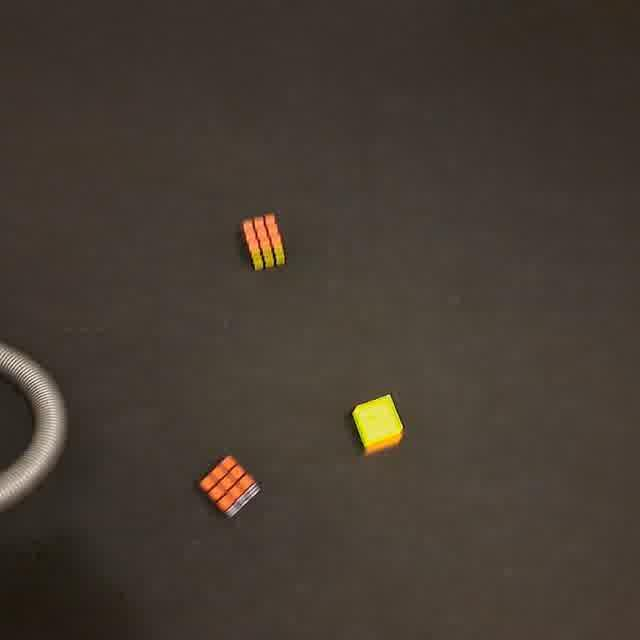rubix_cube: (195, 452, 265, 520), (349, 392, 407, 457), (239, 209, 290, 273)
